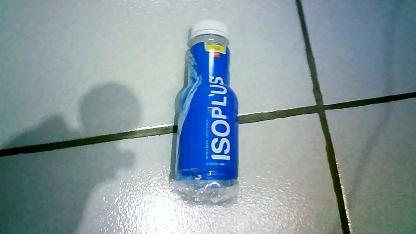Plastic Bottle: (170, 14, 244, 210)
